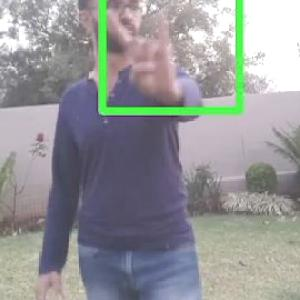takeoff-hand: (102, 6, 181, 103)
